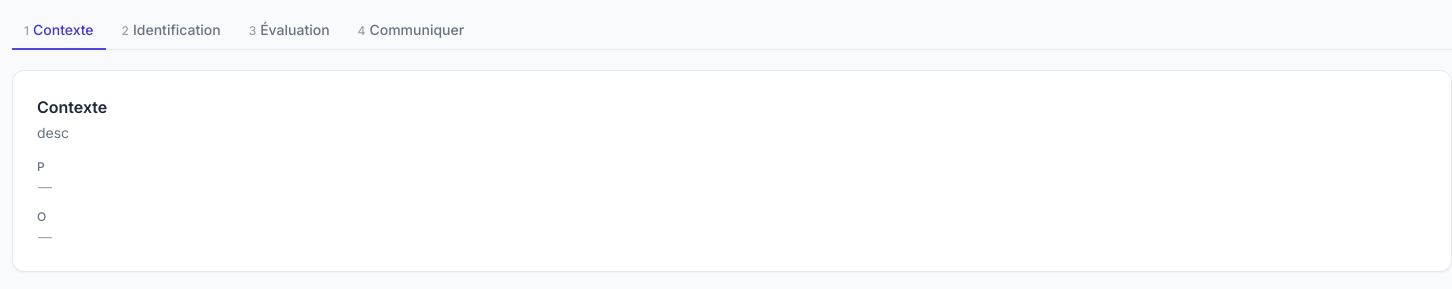
Test case: PhasedRiskWorkshop › phase appreciation = registre éditable ; review = lecture seule
Click the button "2Identification": (171, 31) x1=110 y1=12 x2=233 y2=50
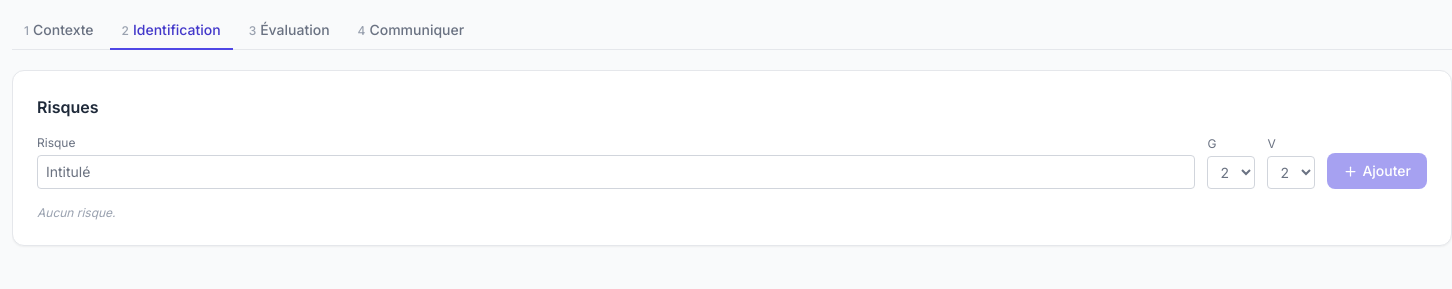
Result: the text "Aucun risque." is shown at x1=37 y1=205 x2=116 y2=220
Result: the button "Ajouter" is shown at x1=1327 y1=153 x2=1427 y2=189
Click the button "3Évaluation": (289, 31) x1=237 y1=12 x2=342 y2=50
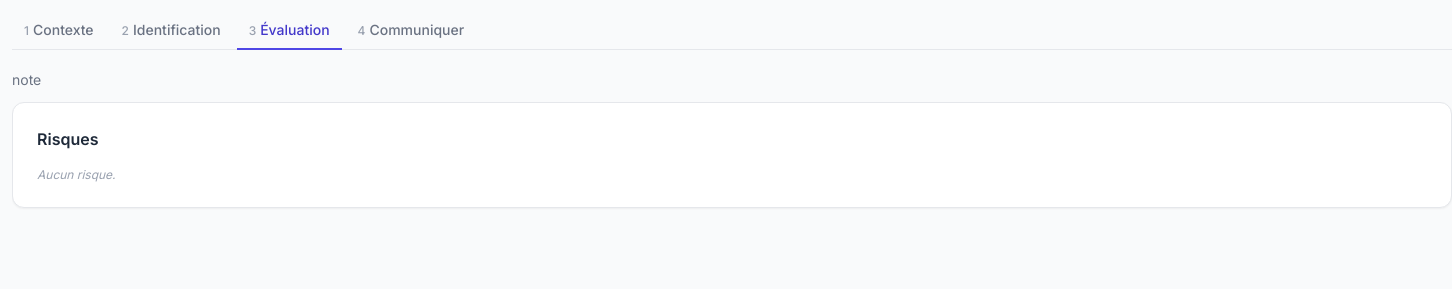
Result: the text "Aucun risque." is shown at x1=37 y1=167 x2=116 y2=182
Result: the button "Ajouter" is gone
